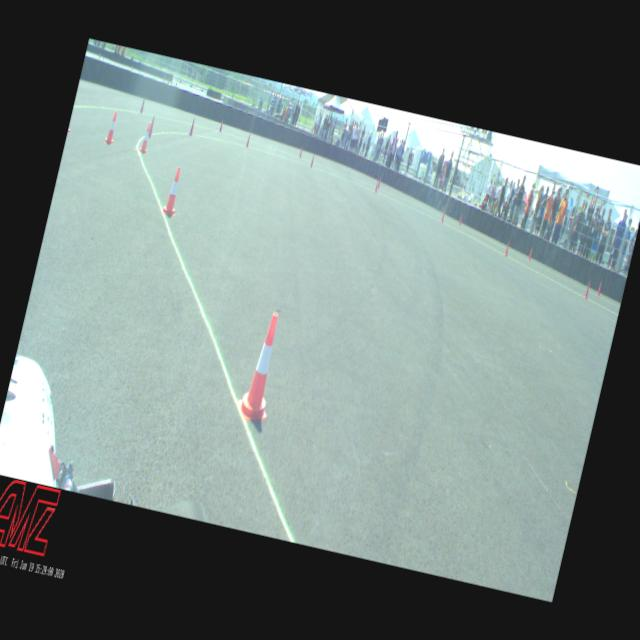orange_cone: (234, 308, 290, 424), (162, 166, 184, 216), (104, 110, 120, 144), (138, 121, 153, 154)
